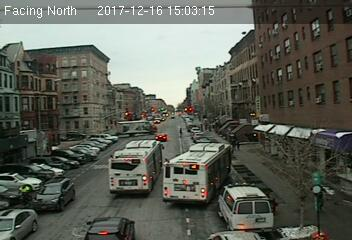bicycle: (16, 181, 34, 210)
bus: (162, 141, 232, 205), (106, 140, 167, 193)
car: (33, 176, 77, 213)
police: (219, 183, 274, 231)
